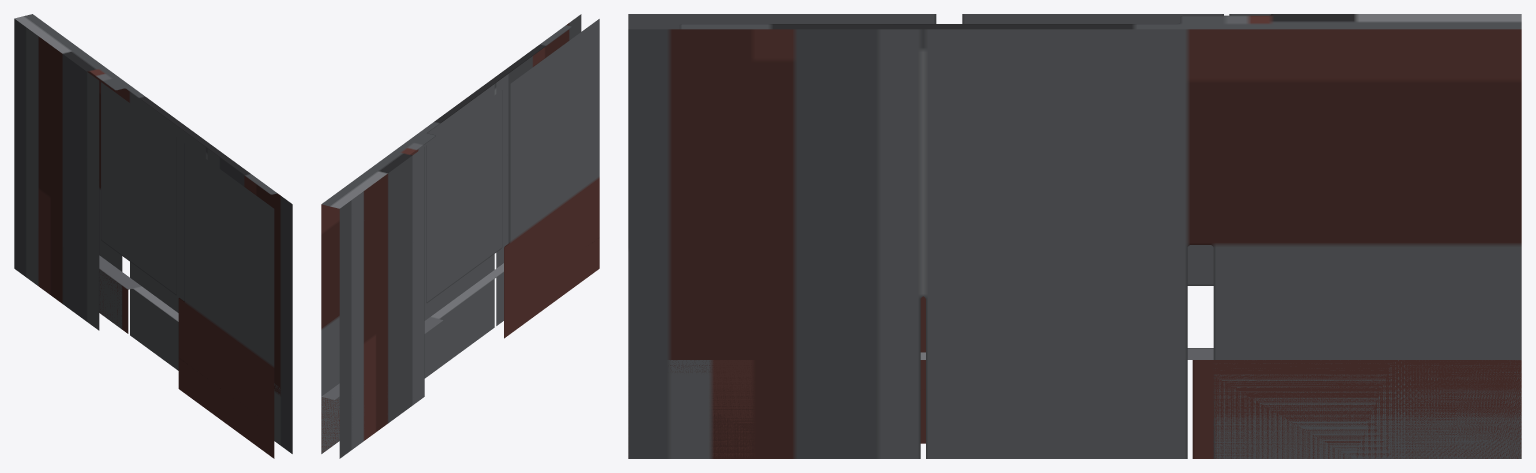
The model's file is section-0.obj.
3 views of the same model, side by side, from view 1: azimuth 30°, elevation 25°; view 2: azimuth 150°, elevation 25°; view 3: azimuth 270°, elevation 25° (orthographic). The views are drawn at different scales.
Bounding box in the file's own units: 0.1 × 1.3 × 2.45.
